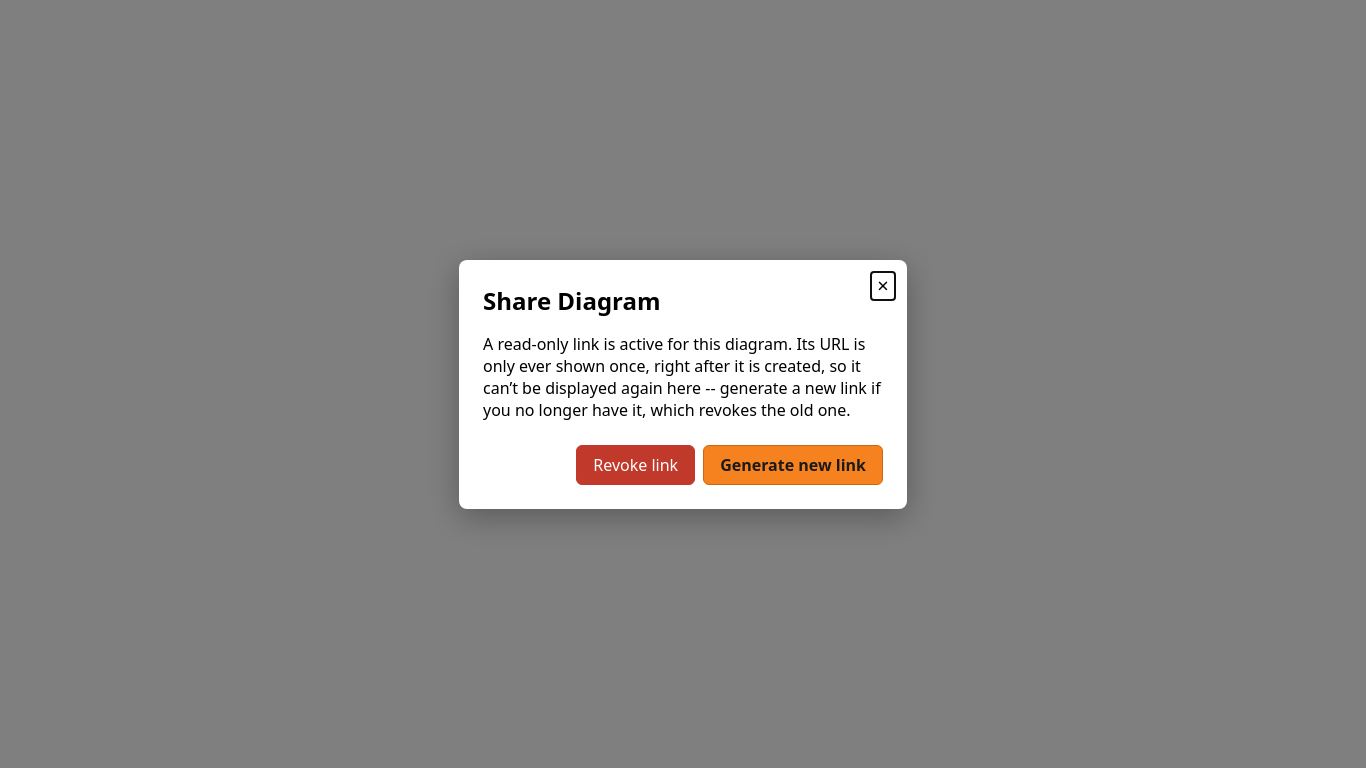
Test: ShareModal › generates a new link from the active state, revoking the old one
Click the button "Generate new link".
click(793, 464)  # box 703,444 -> 883,484
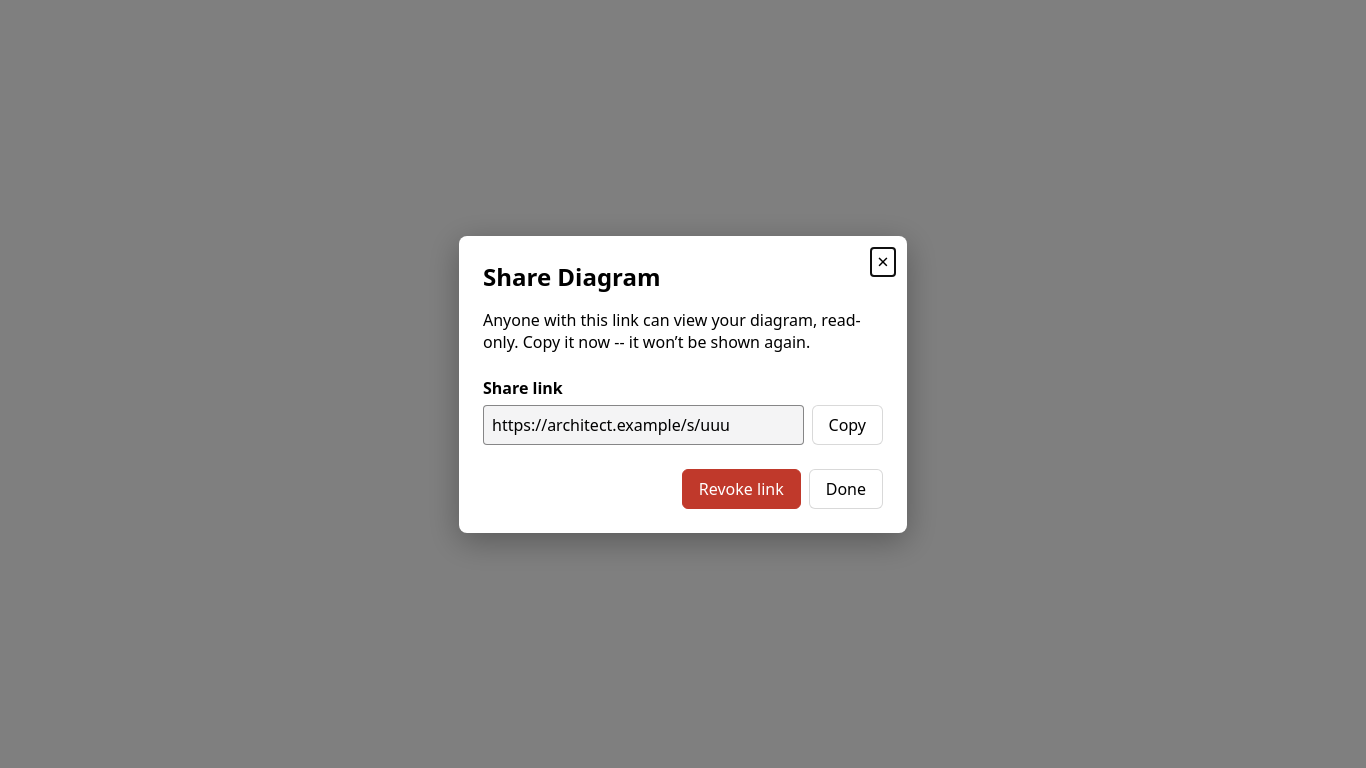
Now the field labelled "Share link" holds "https://architect.example/s/uuu", box 483,404 -> 804,444
